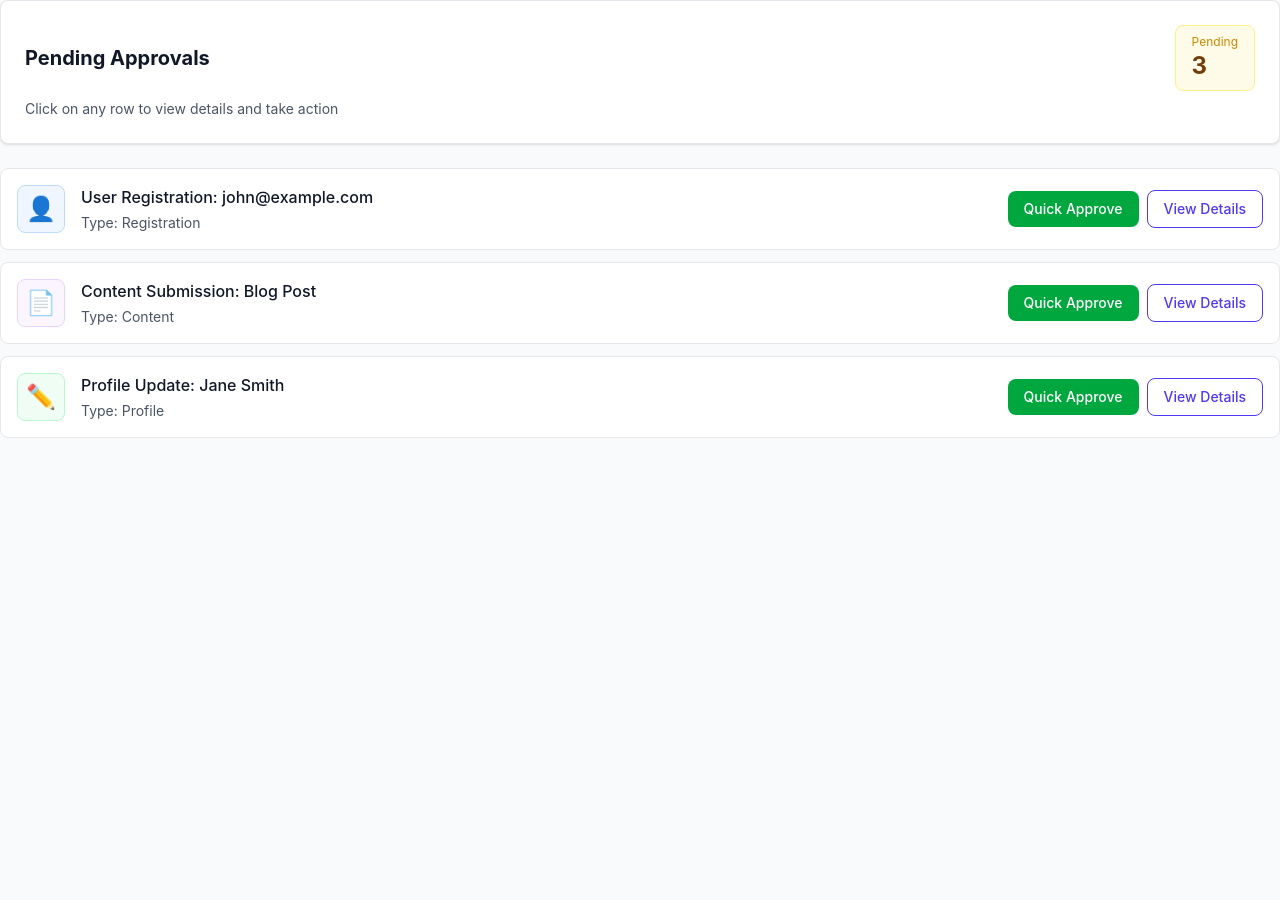
Test: Desafio 6: Problemas de Propagação de Eventos Aninhados › deve fechar o modal ao clicar no botão fechar
The width and height of the screenshot is (1280, 900).
Click the element with test id "approval-row-1": (640, 209) [0, 168, 1279, 250]
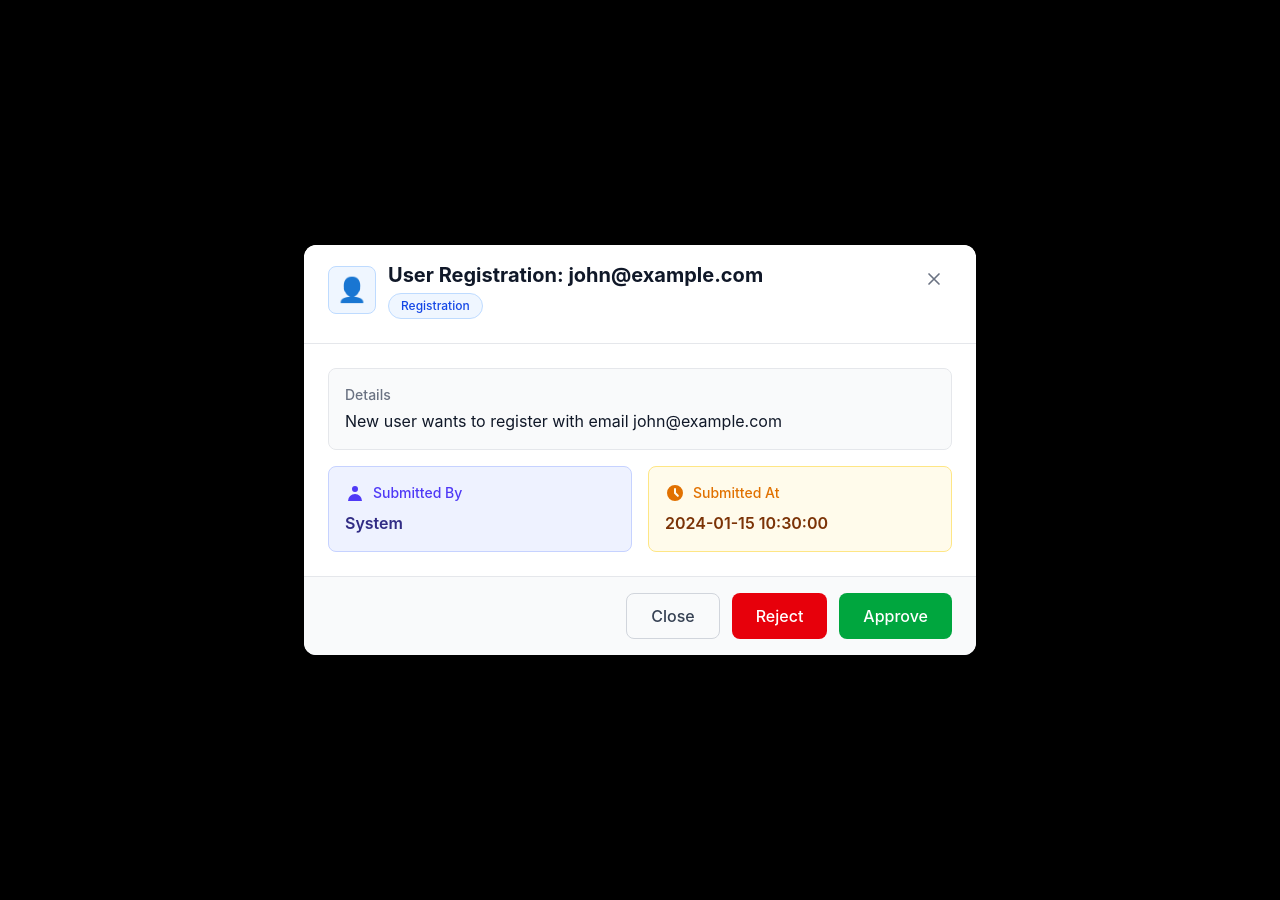
expect the element with test id "modal-backdrop" is shown: met
// Clicar no botão fechar
Click the button with test id "modal-close-btn": (673, 616) [626, 593, 720, 639]
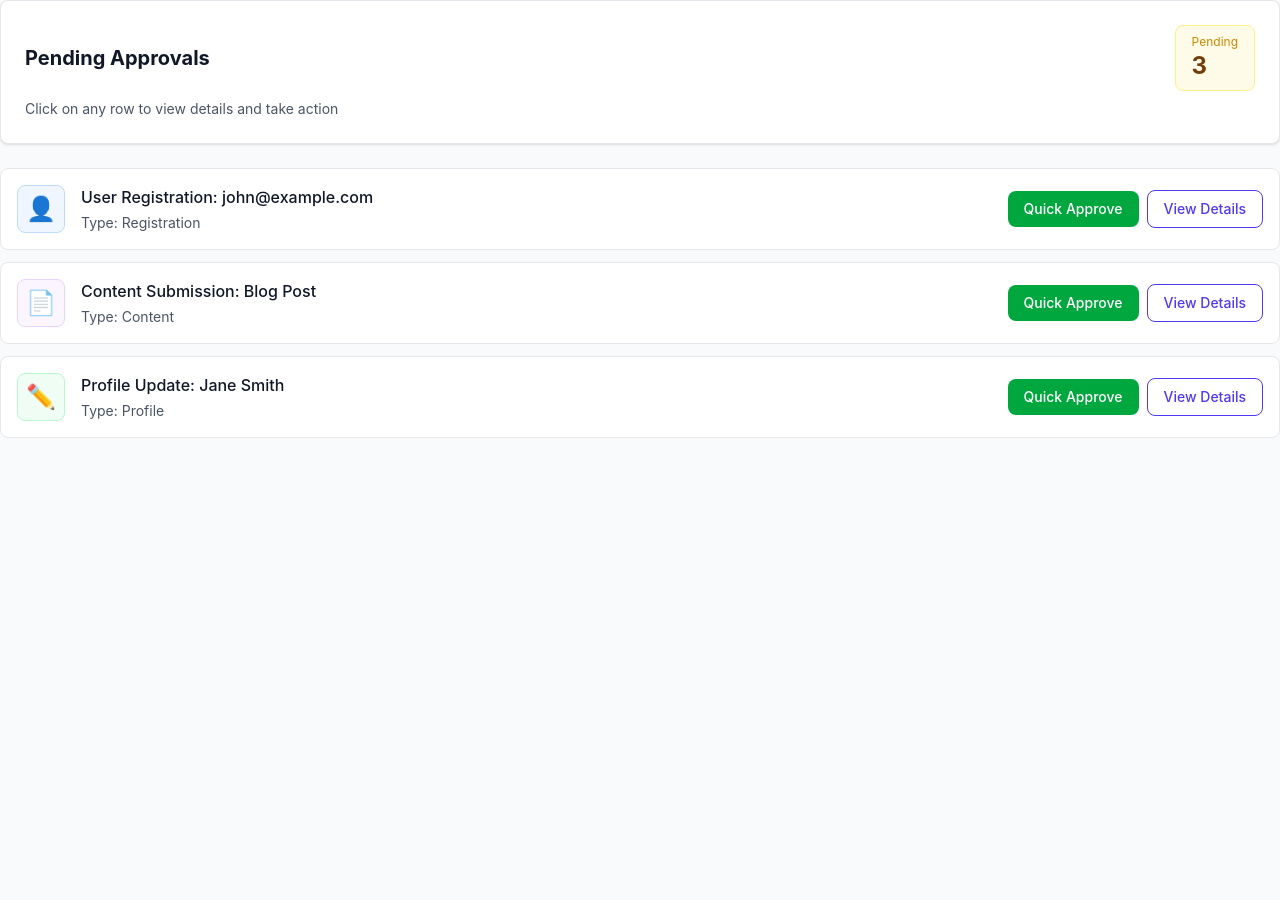
expect the element with test id "modal-backdrop" is gone: met
